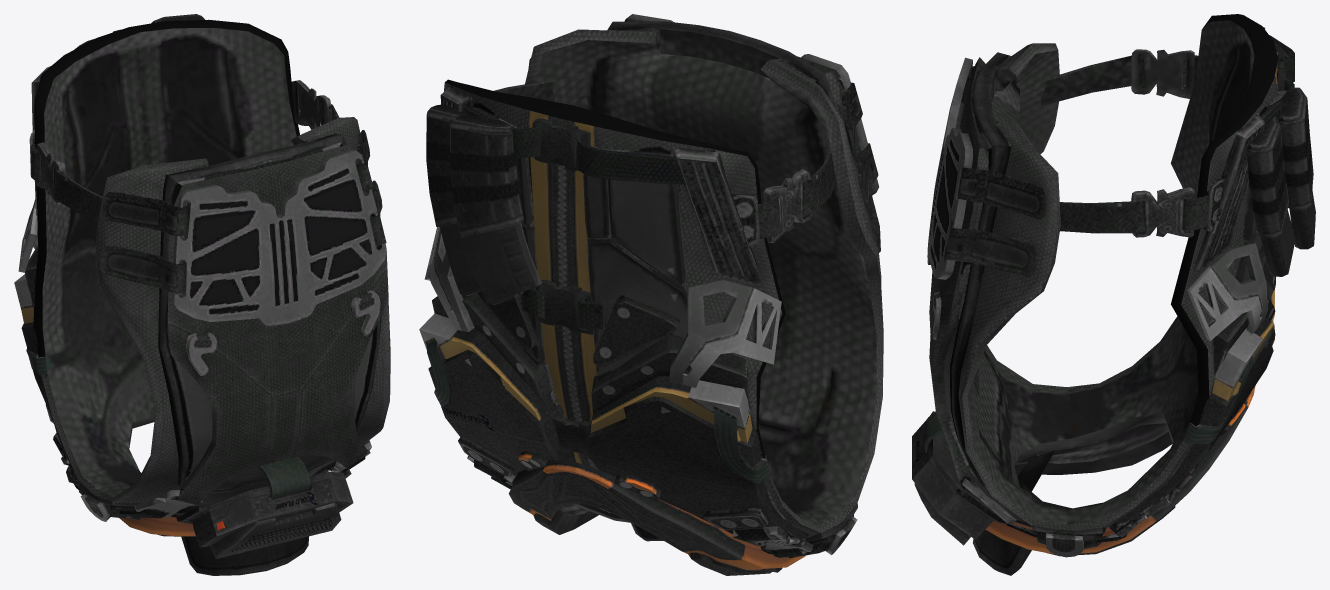
File: ctw_light_5.fbx
3 renders of one model, left to right at view 1: azimuth 30°, elevation 25°; view 2: azimuth 150°, elevation 25°; view 3: azimuth 270°, elevation 25°, orthographic. The views are drawn at different scales.
Visible parts, largest first — view 1: IronSight MMO mesh: 1; view 2: IronSight MMO mesh: 1; view 3: IronSight MMO mesh: 1.
Boxes of the visible parts, x1,y1,x2,y2 form: IronSight MMO mesh: 1: [14, 14, 390, 575]; IronSight MMO mesh: 1: [419, 14, 883, 575]; IronSight MMO mesh: 1: [912, 14, 1315, 575].
Size of the model in its own units: 55.7 by 84.23 by 62.61.
